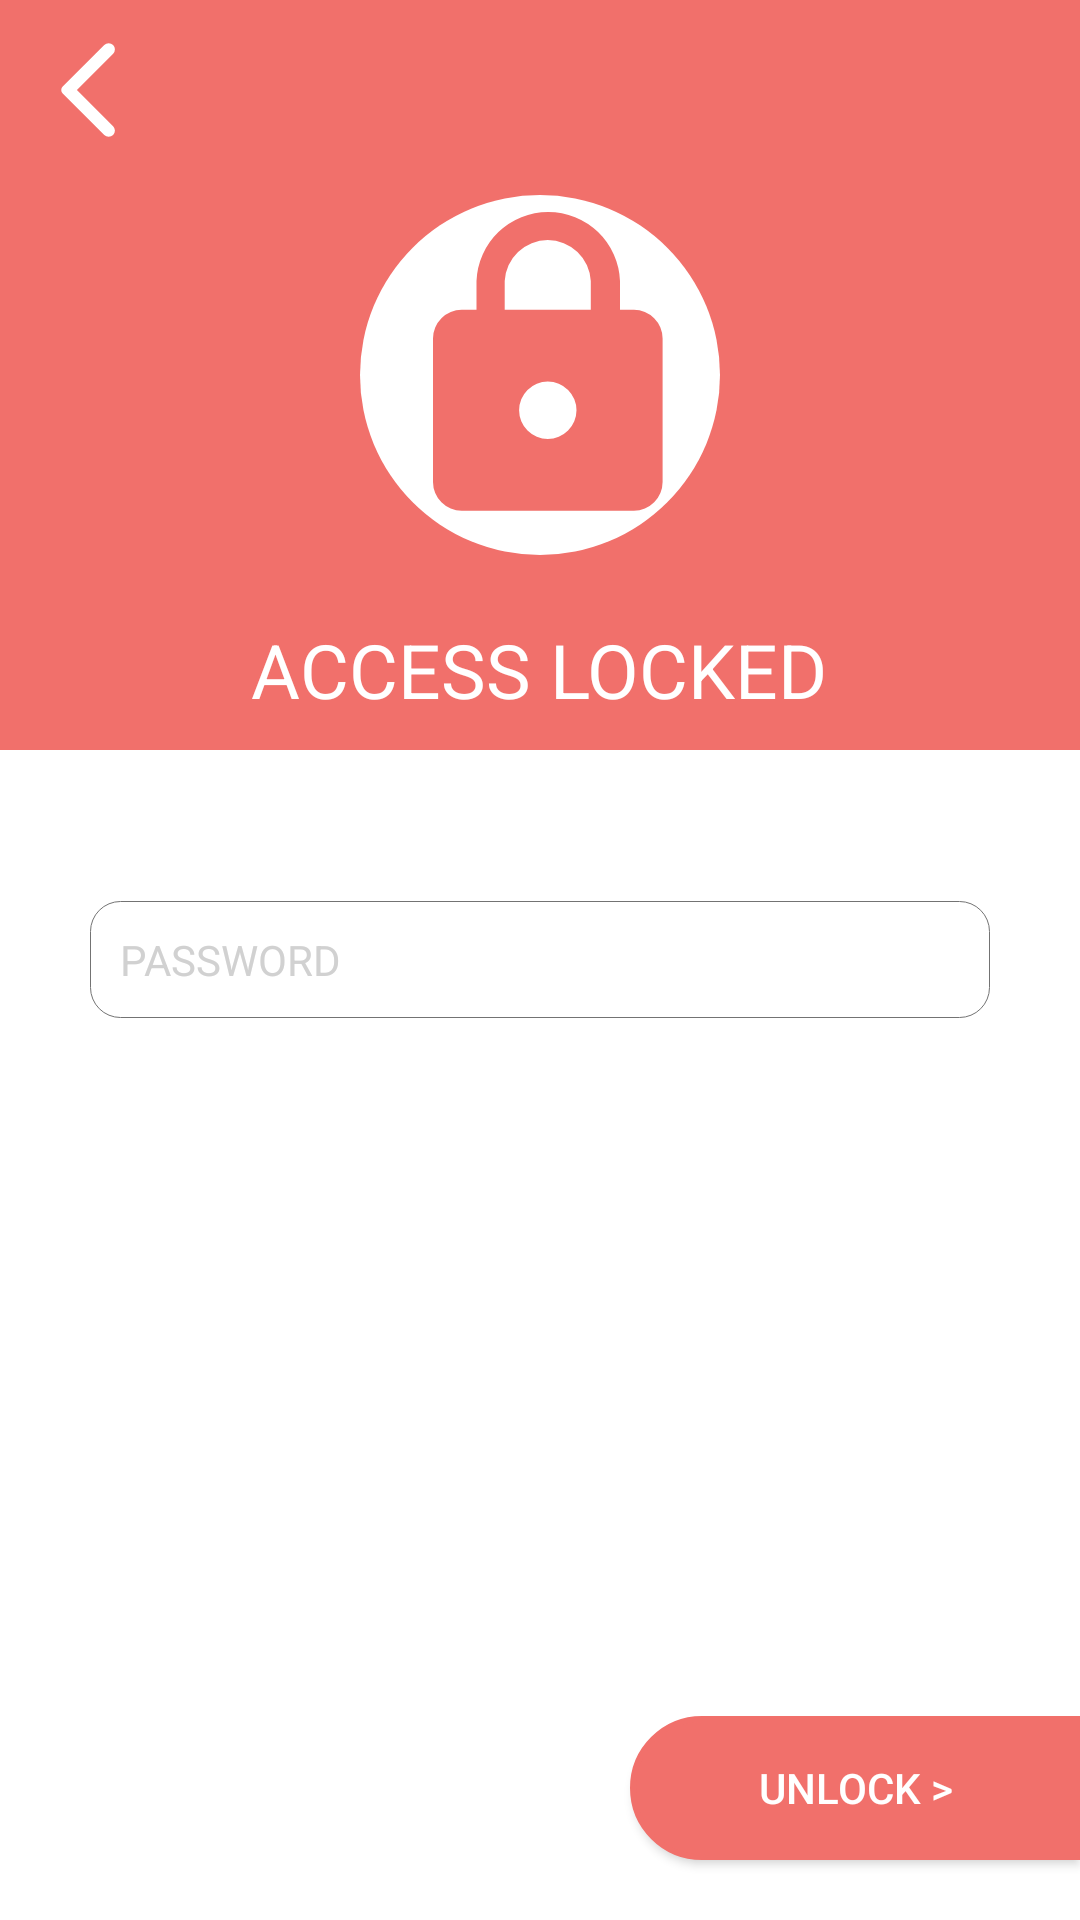

Where icons sit on this 1080*1920 app screen, as (x1, y1, x2, y2):
arrow back: (61, 43, 115, 137)
